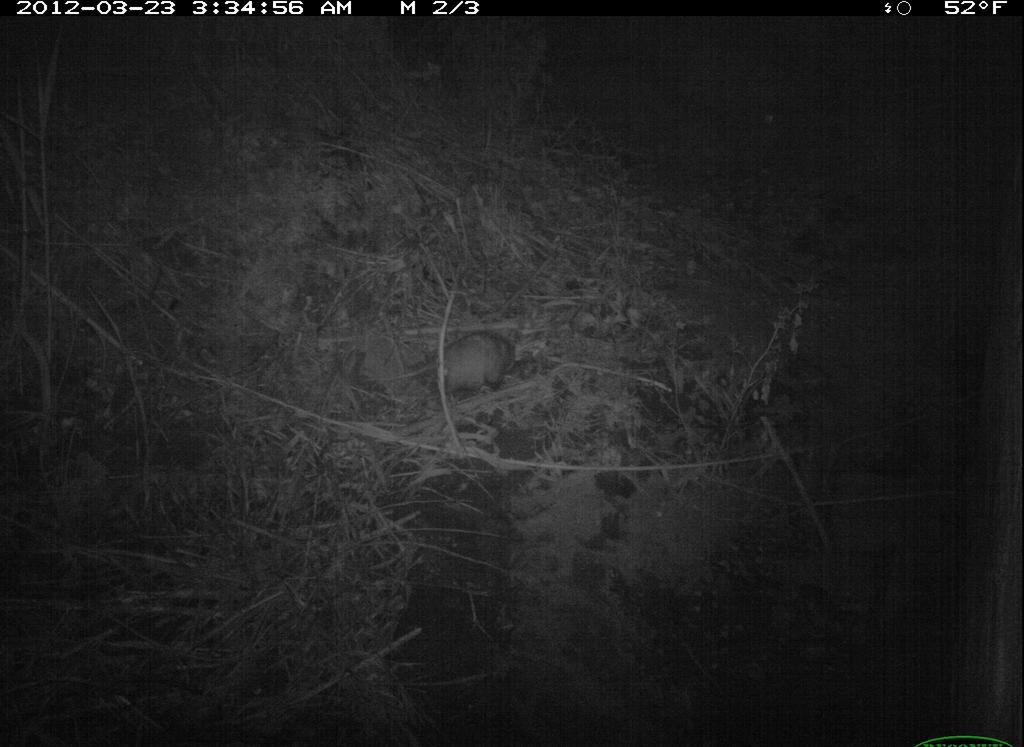opossum: (406, 321, 532, 400)
